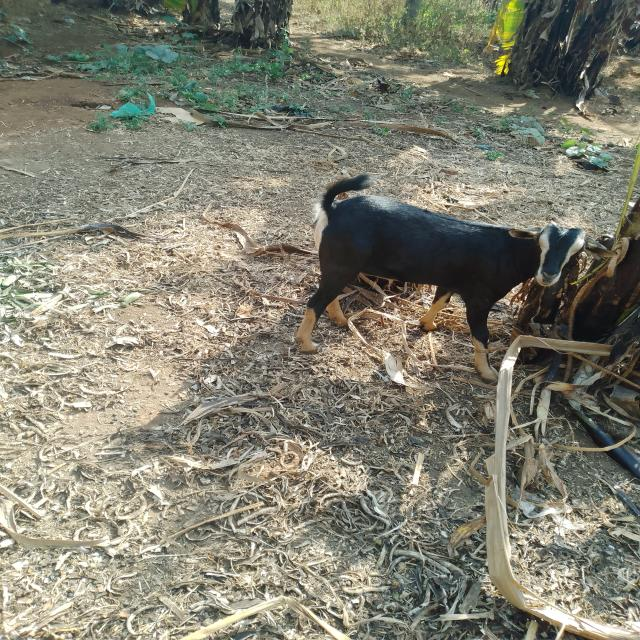goat: (245, 139, 625, 396)
